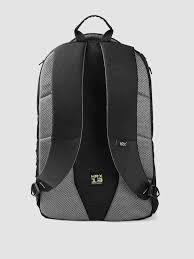backpack: (30, 14, 159, 221)
